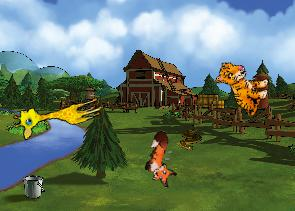fox: (138, 129, 188, 189)
giraffe: (10, 85, 105, 142)
tiger: (208, 58, 274, 118)
